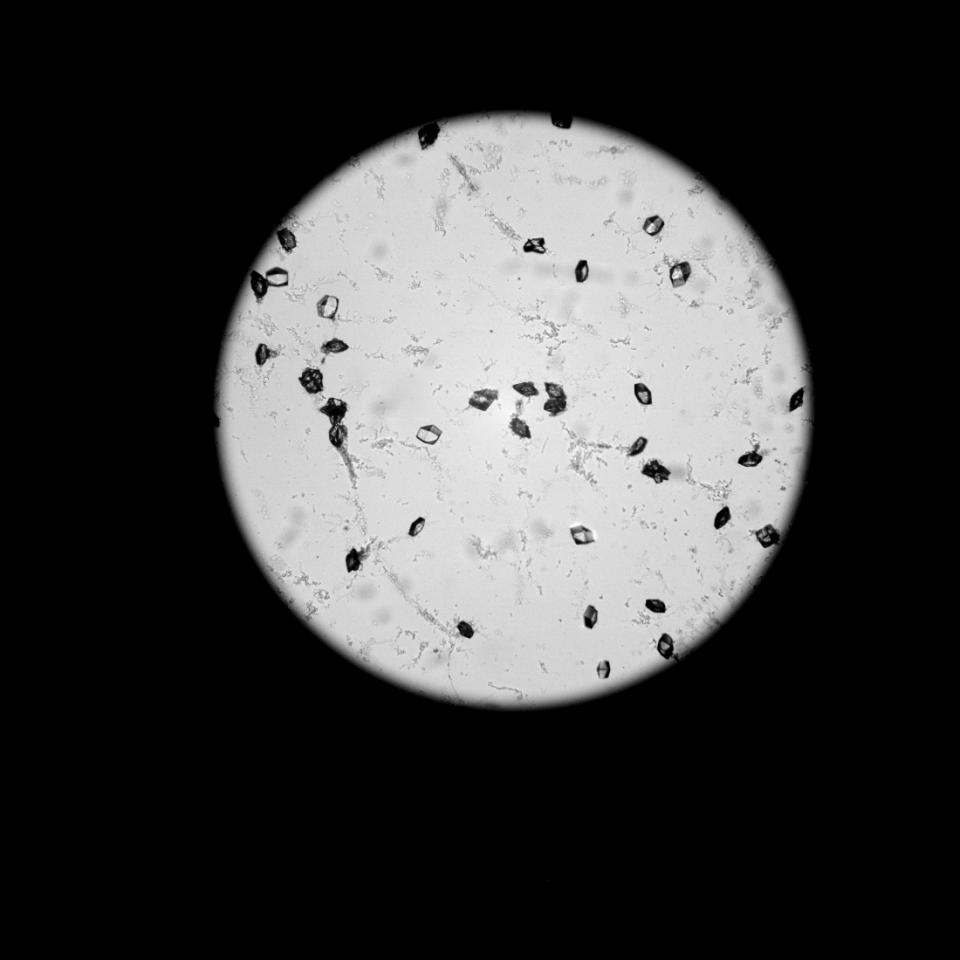crystal: (629, 208, 672, 252), (640, 461, 685, 495), (414, 414, 452, 453), (627, 434, 660, 474), (403, 513, 437, 551), (658, 258, 693, 294), (567, 255, 600, 289), (619, 379, 659, 406), (316, 395, 353, 424), (322, 424, 361, 451), (294, 366, 329, 396), (569, 523, 602, 554), (728, 443, 770, 467), (466, 388, 502, 415), (775, 384, 808, 412), (650, 632, 677, 665), (515, 235, 551, 259), (452, 615, 482, 643), (511, 417, 542, 444), (419, 122, 442, 157), (754, 521, 780, 551), (314, 292, 340, 322), (513, 380, 546, 403), (322, 336, 355, 359), (579, 602, 604, 632), (710, 504, 732, 538), (262, 267, 294, 290), (274, 227, 302, 253), (542, 378, 572, 400), (344, 541, 362, 577), (251, 270, 270, 302), (545, 394, 570, 417), (589, 653, 609, 680), (646, 596, 671, 617), (254, 344, 275, 368)
